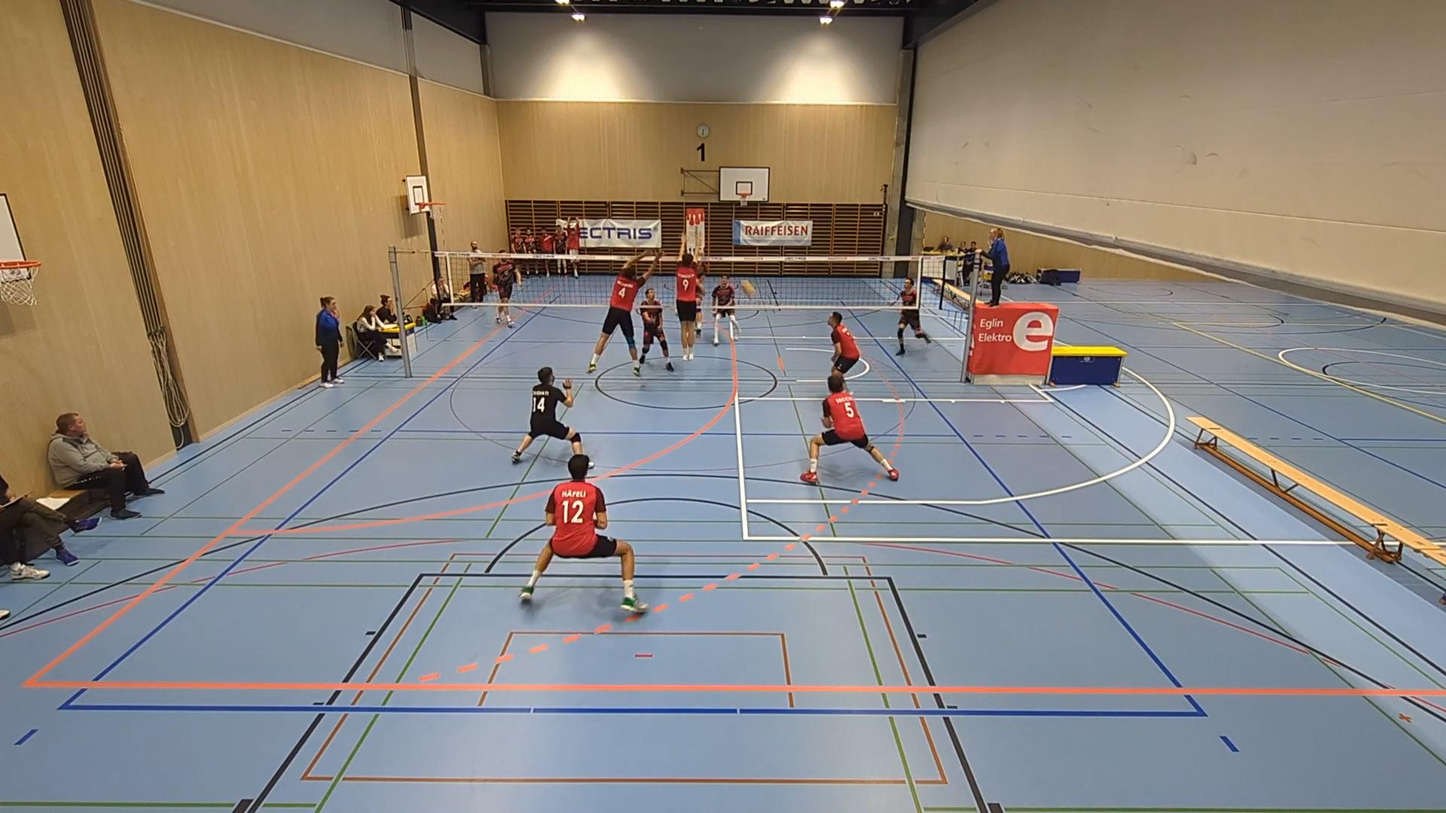attacco: (680, 237, 709, 344)
muro: (595, 245, 668, 373), (675, 243, 715, 365)
